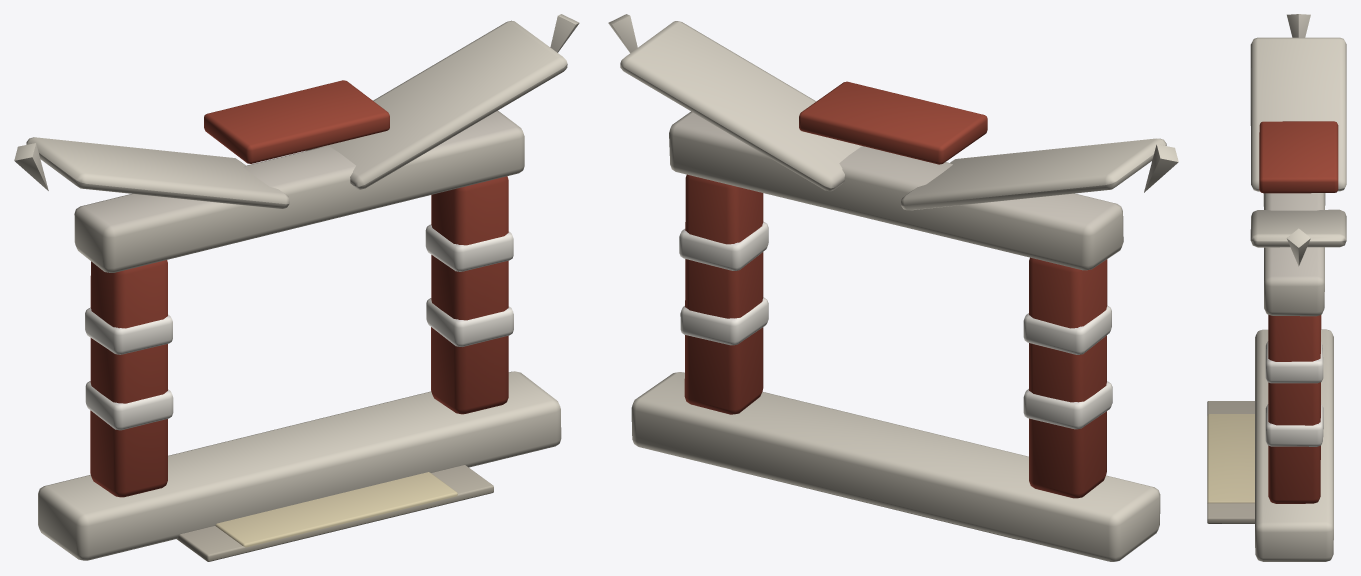
3 renders of one model, left to right at view 1: azimuth 30°, elevation 25°; view 2: azimuth 150°, elevation 25°; view 3: azimuth 270°, elevation 25°, orthographic. The views are drawn at different scales.
Parts seen in each view (by area): view 1: gate_827b3171; view 2: gate_827b3171; view 3: gate_827b3171.
Boxes of the visible parts, bbox=[...] form: gate_827b3171: bbox=[14, 14, 579, 561]; gate_827b3171: bbox=[608, 14, 1178, 561]; gate_827b3171: bbox=[1207, 14, 1346, 561].
Bounding box in the file's own units: 6.31 × 4.36 × 1.6.
